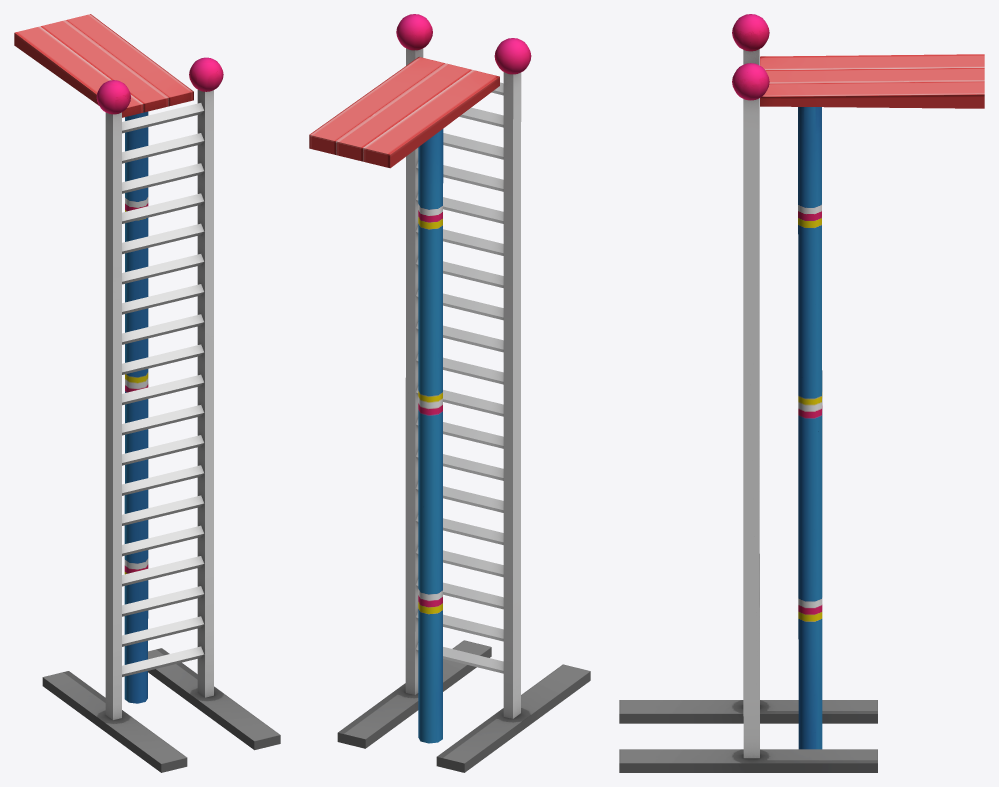
The model's file is diveTower.fbx.
The picture shows the model from 3 angles, left to right: view 1: azimuth 30°, elevation 25°; view 2: azimuth 150°, elevation 25°; view 3: azimuth 270°, elevation 25°; orthographic projection. The views are drawn at different scales.
Visible parts, largest first — view 1: diveStand; view 2: diveStand; view 3: diveStand.
Boxes of the visible parts, bbox=[...] form: diveStand: bbox=[14, 14, 280, 772]; diveStand: bbox=[309, 14, 590, 772]; diveStand: bbox=[619, 14, 984, 772].
Size of the model in its own units: 0.1458 by 0.7392 by 0.3461.
